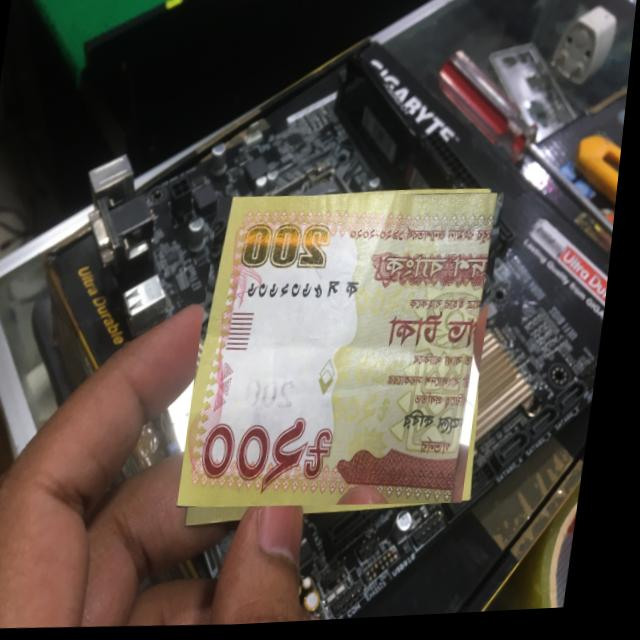Taka: (187, 188, 509, 520)
